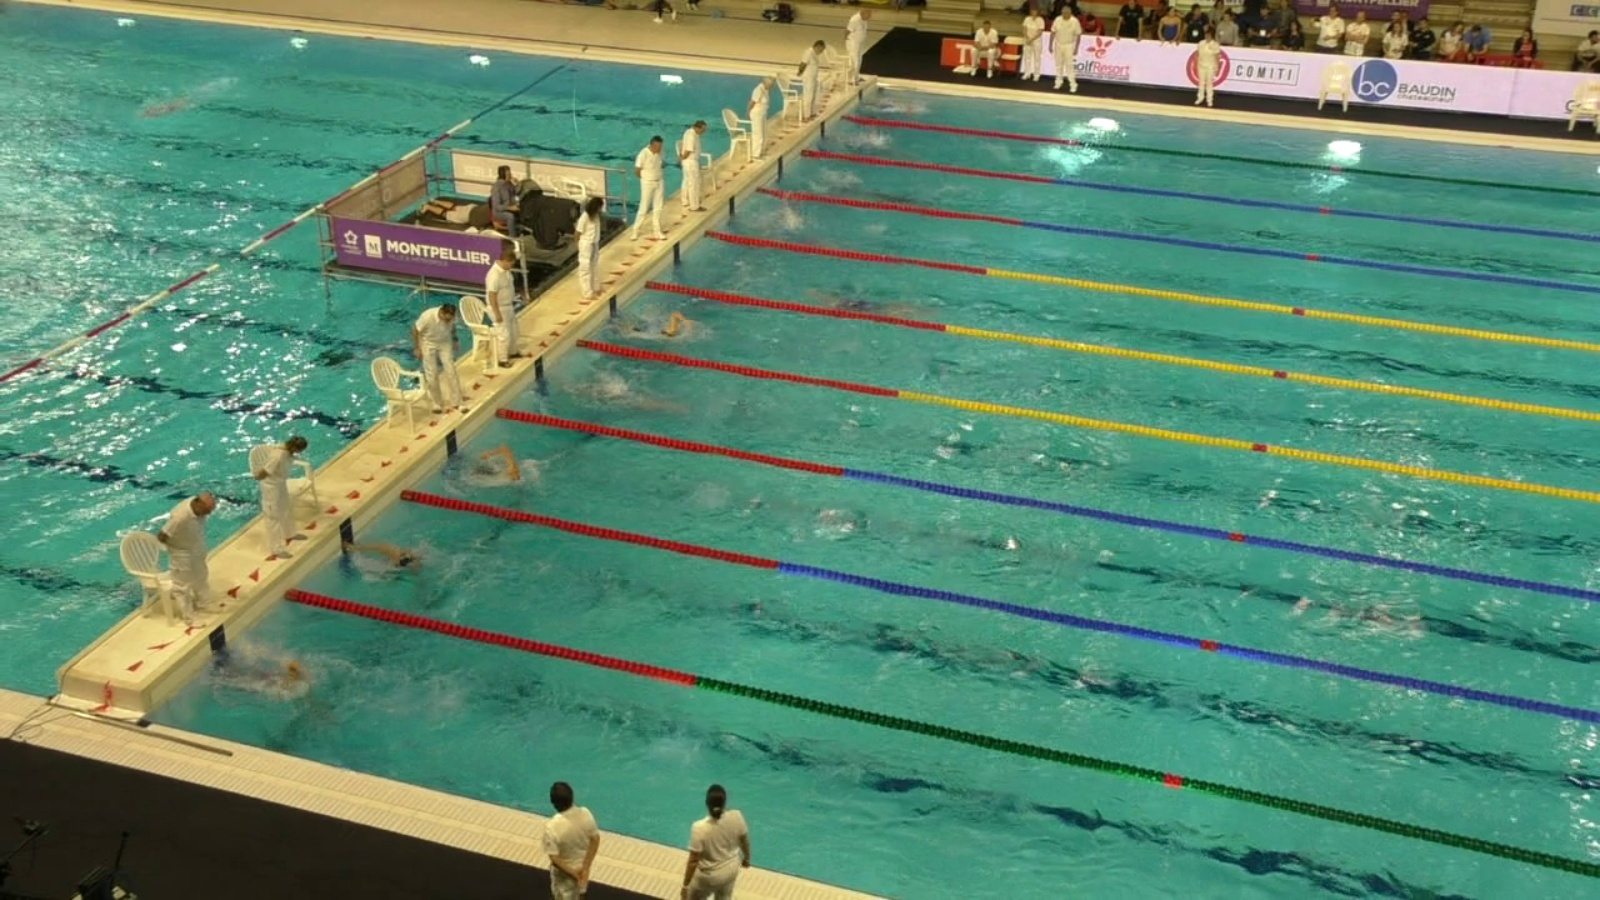swimmerwdd: (330, 535, 498, 612), (226, 647, 355, 727), (457, 444, 553, 504), (791, 284, 937, 321), (579, 384, 714, 421), (613, 308, 716, 356), (743, 200, 841, 245), (831, 127, 918, 157), (827, 176, 909, 207), (863, 92, 930, 124), (137, 96, 190, 119)
